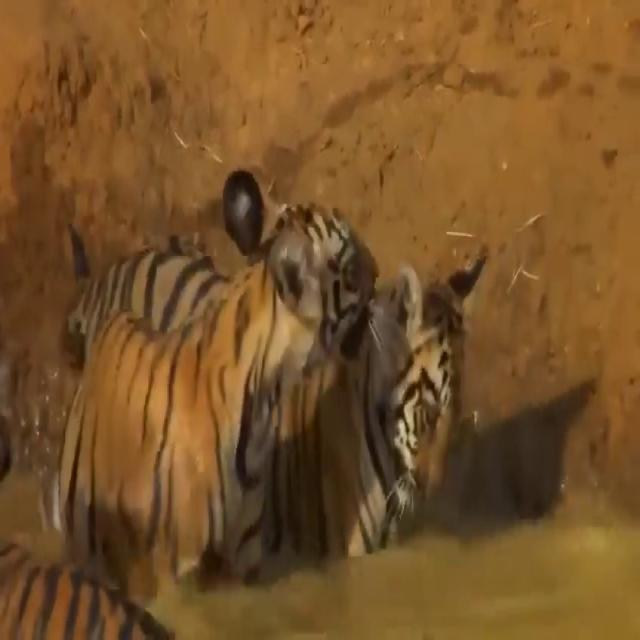tiger: (53, 170, 377, 580)
